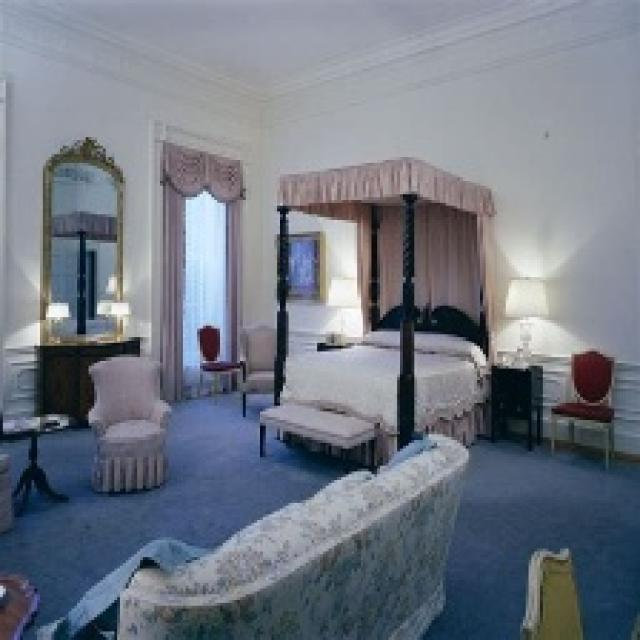Bed: (272, 154, 494, 463)
